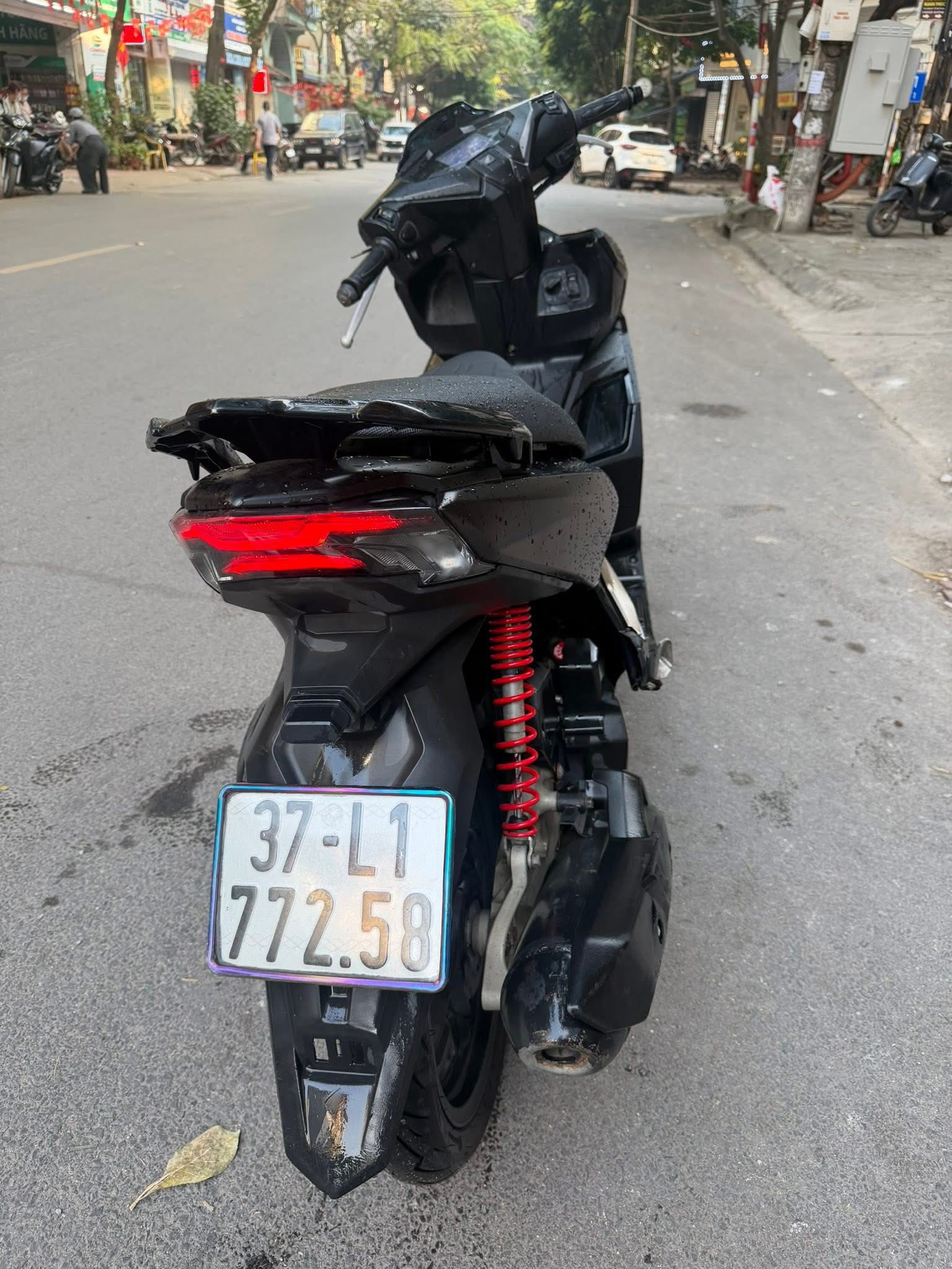bien_so: (199, 768, 461, 1006)
